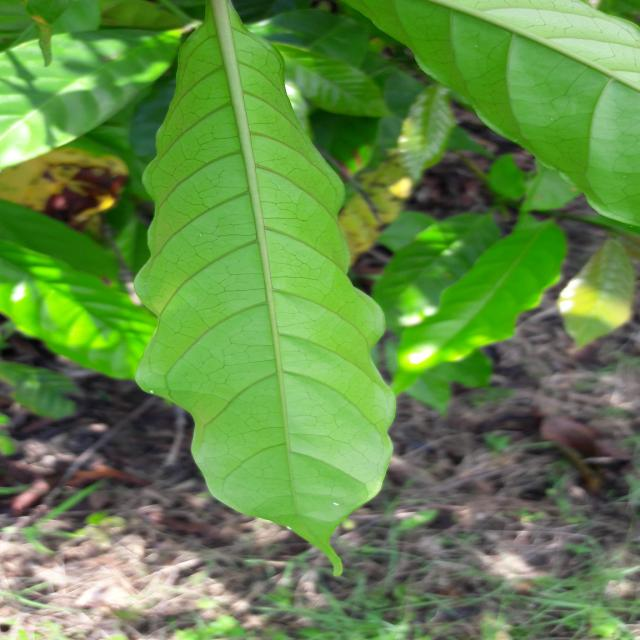Sanas: (133, 0, 397, 562)
